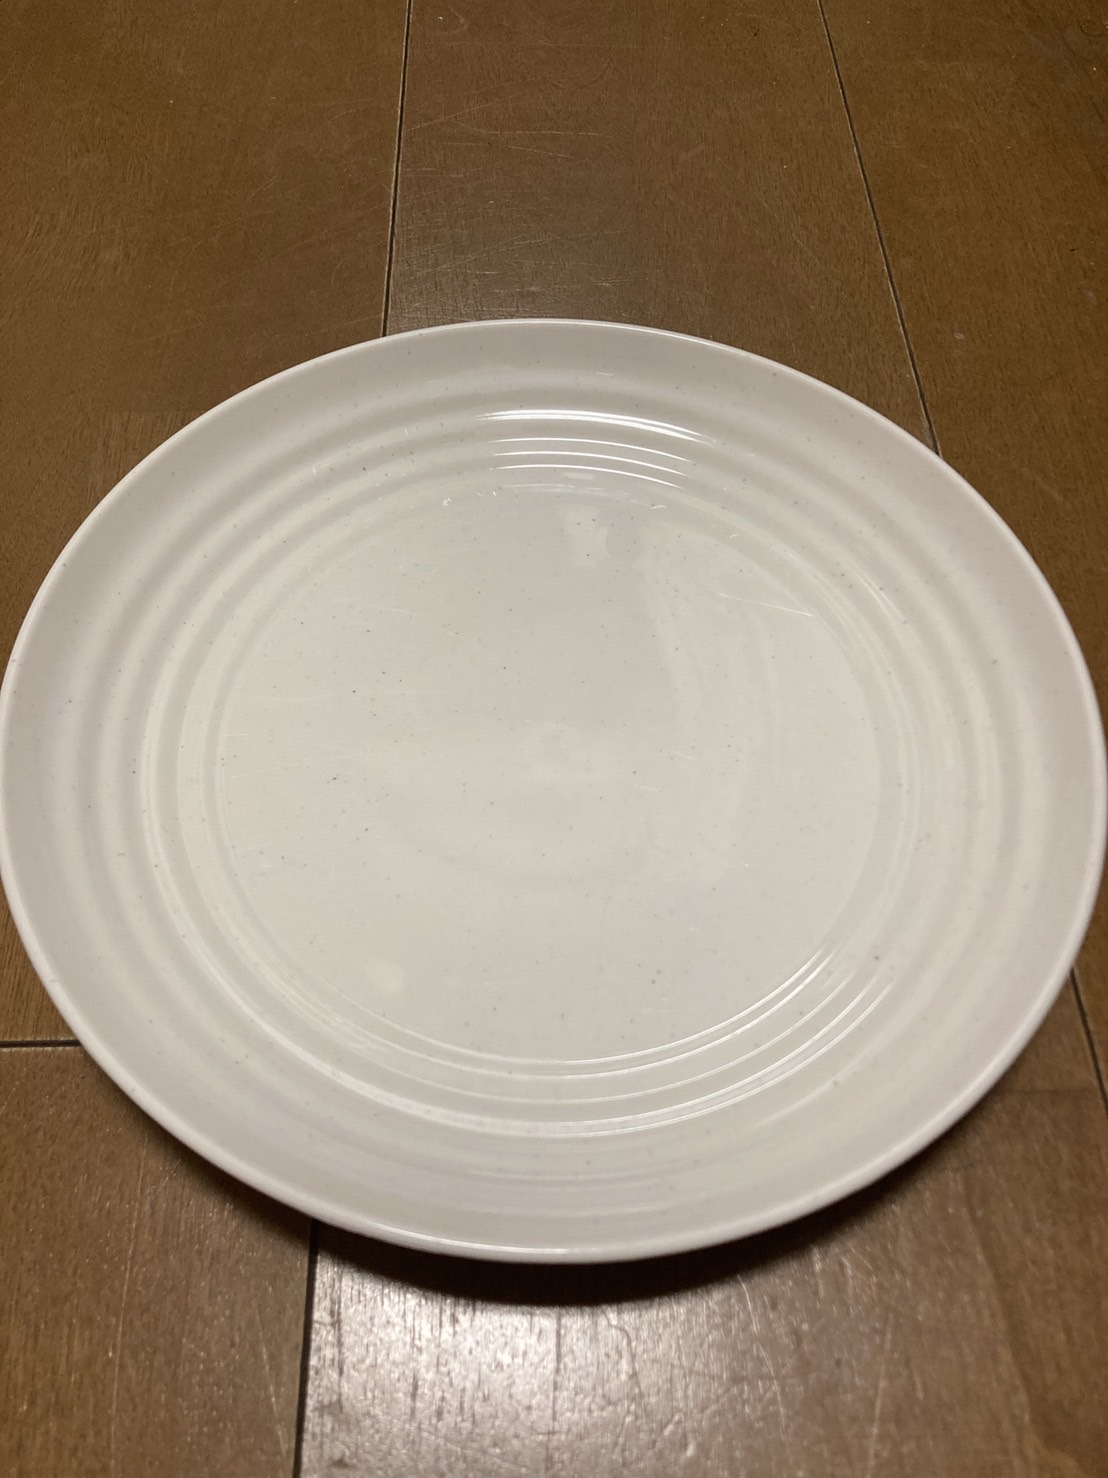piring: (7, 310, 1108, 1273)
